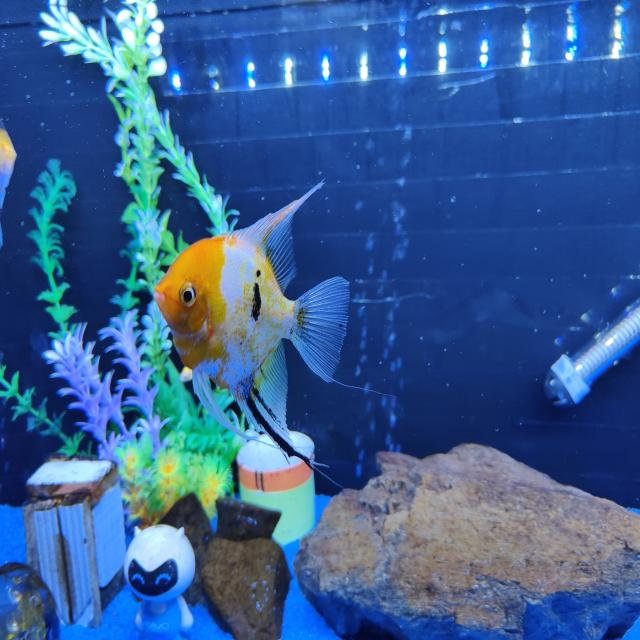Fish: (155, 183, 349, 467), (0, 120, 16, 209)
